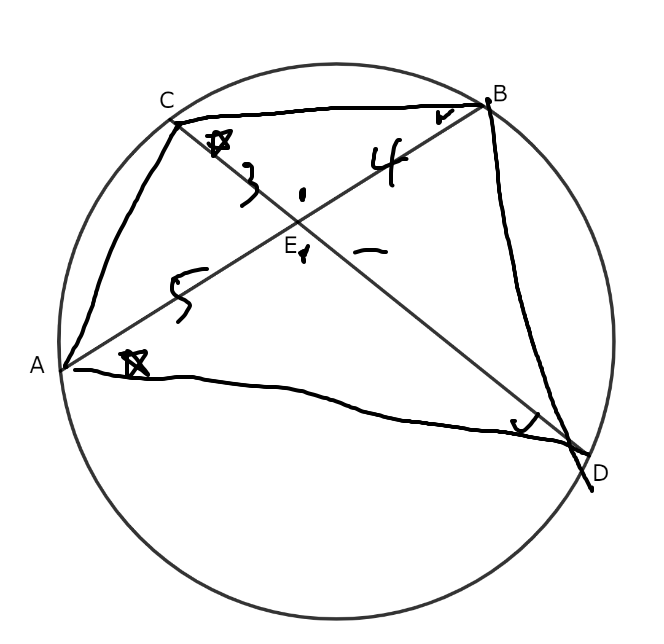Angle_Point: (287, 244, 317, 270), (290, 180, 315, 211)
